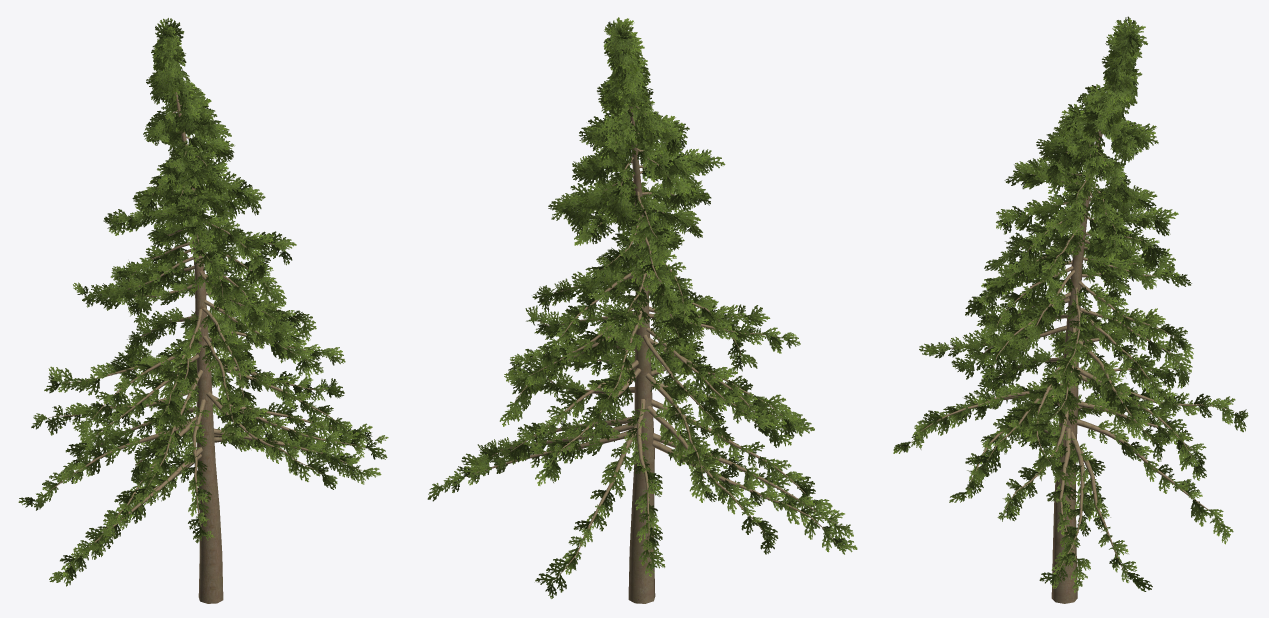
Rendered from pine_medium_02.glb.
3 views of the same model, side by side, from view 1: azimuth 30°, elevation 25°; view 2: azimuth 150°, elevation 25°; view 3: azimuth 270°, elevation 25° (orthographic). The views are drawn at different scales.
Parts seen in each view (by area): view 1: Tree; view 2: Tree; view 3: Tree.
Part boxes in pixels (bbox=[...]): Tree: bbox=[18, 18, 388, 603]; Tree: bbox=[427, 17, 857, 603]; Tree: bbox=[893, 16, 1248, 603].
Bounding box in the file's own units: 32.92 × 51.15 × 29.39.
2 materials, 2 textured.
